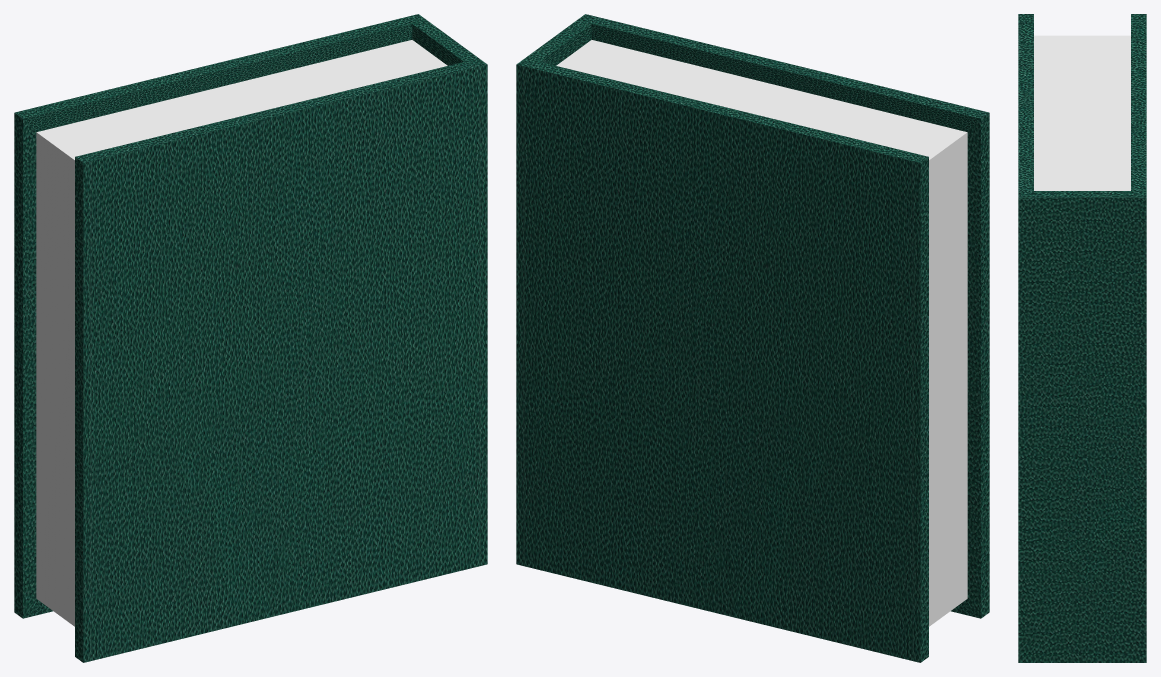
File: book.obj
3 views of the same model, side by side, from view 1: azimuth 30°, elevation 25°; view 2: azimuth 150°, elevation 25°; view 3: azimuth 270°, elevation 25° (orthographic). The views are drawn at different scales.
Visible parts, largest first — view 1: Bibliotheque.055; view 2: Bibliotheque.055; view 3: Bibliotheque.055.
Boxes of the visible parts, x1=… form: Bibliotheque.055: x1=14, y1=14, x2=487, y2=662; Bibliotheque.055: x1=516, y1=14, x2=989, y2=662; Bibliotheque.055: x1=1018, y1=14, x2=1146, y2=662.
Size of the model in its own units: 0.2094 by 0.2476 by 0.0619.
